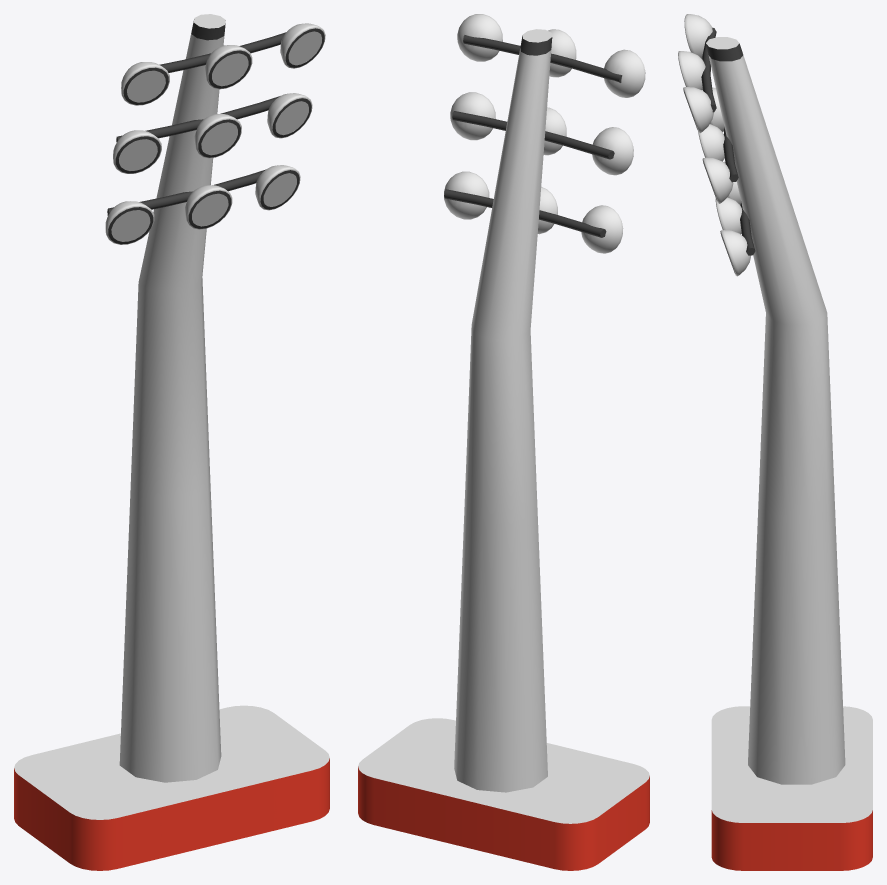
Rendered from Light Tower.fbx.
3 renders of one model, left to right at view 1: azimuth 30°, elevation 25°; view 2: azimuth 150°, elevation 25°; view 3: azimuth 270°, elevation 25°, orthographic. The views are drawn at different scales.
Parts seen in each view (by area): view 1: Lightstower, Lightstower.001, Lights; view 2: Lightstower, Lightstower.001; view 3: Lightstower, Lightstower.001.
Boxes of the visible parts, x1,y1,x2,y2 form: Lightstower: (105,14,325,782); Lightstower.001: (14,705,329,870); Lights: (111,31,321,241); Lightstower: (444,14,645,792); Lightstower.001: (358,718,649,870); Lightstower: (678,14,845,784); Lightstower.001: (711,706,872,870).
Bounding box in the file's own units: 241 × 739 × 170.
